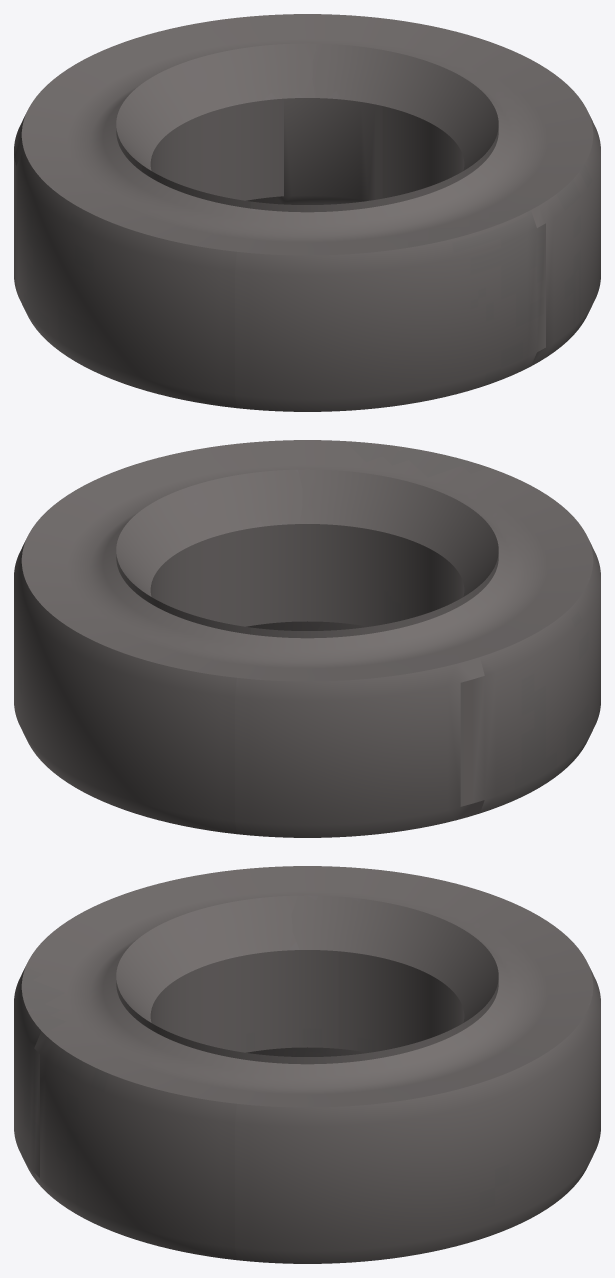
Rendered from front_wheel_0__tire.glb.
The picture shows the model from 3 angles, top to bottom: view 1: azimuth 30°, elevation 25°; view 2: azimuth 150°, elevation 25°; view 3: azimuth 270°, elevation 25°; orthographic projection.
Parts seen in each view (by area): view 1: world; view 2: world; view 3: world.
Boxes of the visible parts, x1,y1,x2,y2 form: world: [14, 14, 600, 411]; world: [14, 440, 600, 837]; world: [14, 866, 600, 1263].
Size of the model in its own units: 0.132 by 0.044 by 0.132.
1 material, 1 textured.
